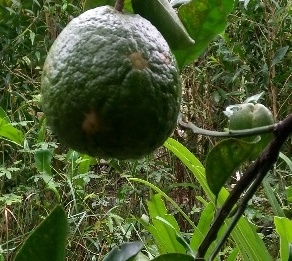Cam: (38, 4, 188, 165)
